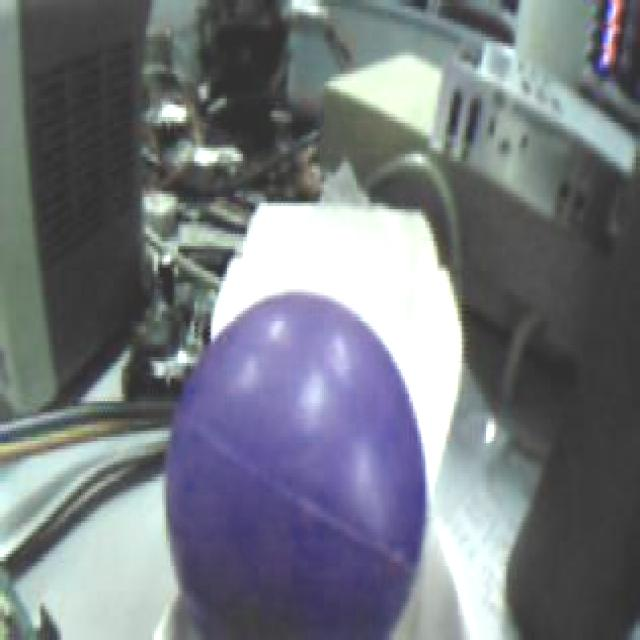BallPurple: (164, 290, 428, 640)
